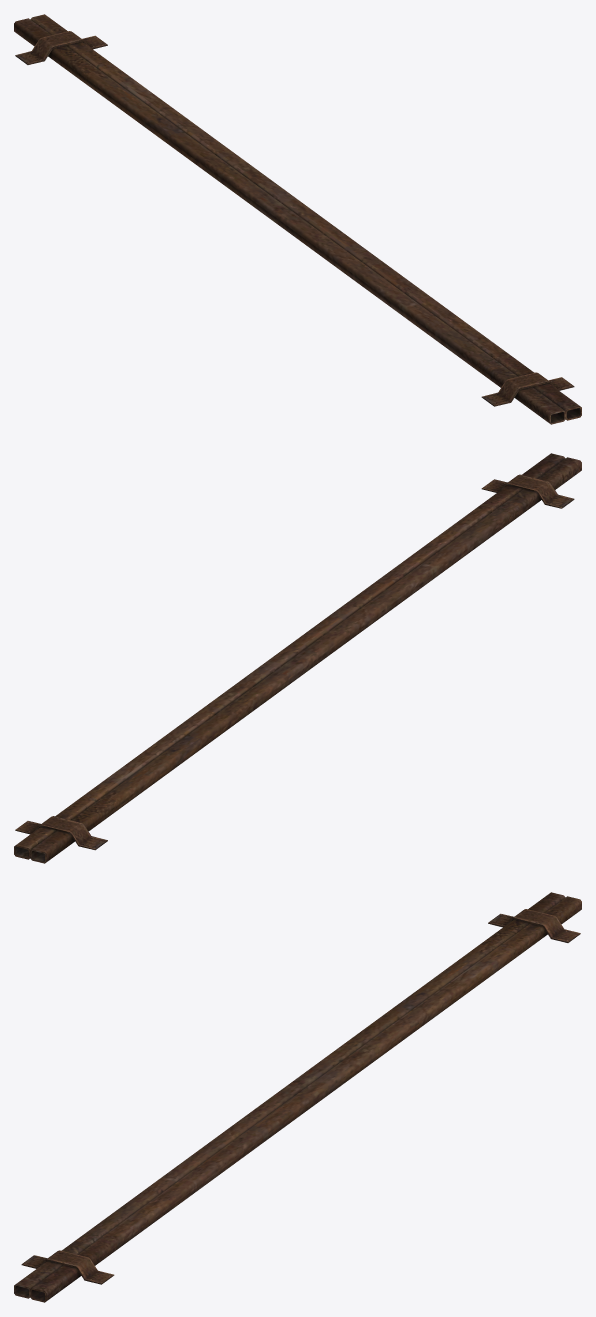
File: girder_rusty_support_long.dae
The picture shows the model from 3 angles, top to bottom: view 1: azimuth 30°, elevation 25°; view 2: azimuth 150°, elevation 25°; view 3: azimuth 330°, elevation 25°; orthographic projection.
Parts seen in each view (by area): view 1: girder_rusty_support_long; view 2: girder_rusty_support_long; view 3: girder_rusty_support_long.
Boxes of the visible parts, x1,y1,x2,y2 form: girder_rusty_support_long: [14, 14, 581, 424]; girder_rusty_support_long: [14, 453, 581, 863]; girder_rusty_support_long: [14, 892, 581, 1302].
Size of the model in its own units: 0.4427 by 0.0696 by 5.13.
